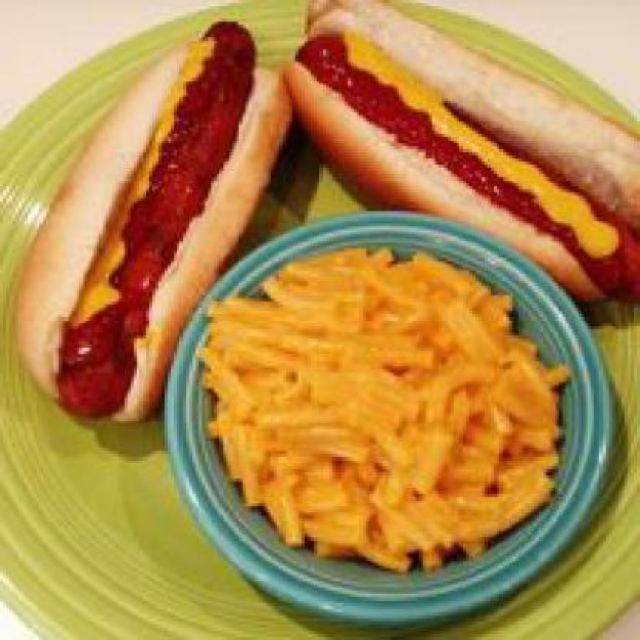macaroni and cheese: (208, 248, 562, 574)
